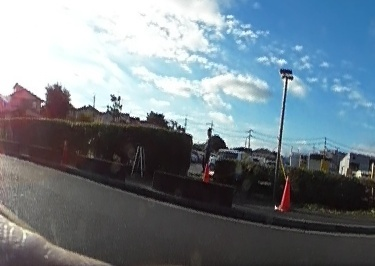person: (200, 126, 215, 172)
